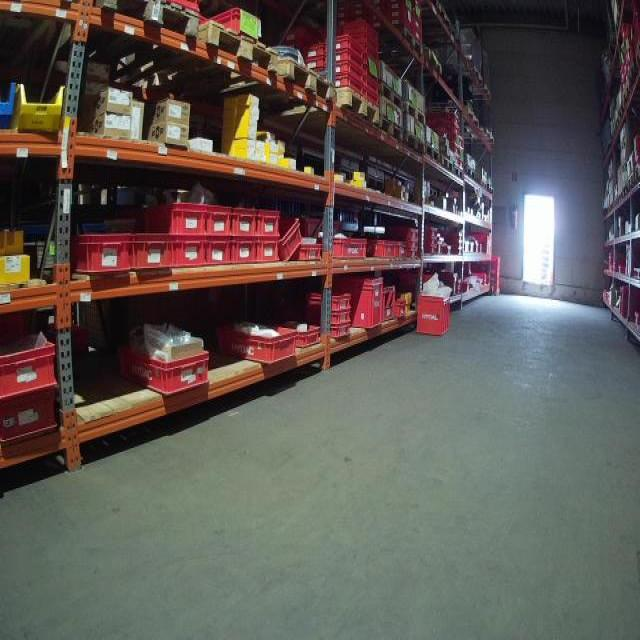pallet: (109, 19, 274, 106), (166, 54, 340, 133), (250, 84, 382, 137), (88, 3, 204, 44), (350, 25, 423, 63), (376, 118, 406, 151), (418, 45, 445, 80), (380, 82, 406, 116), (396, 135, 427, 163), (405, 104, 428, 125), (426, 144, 444, 165), (451, 163, 466, 186), (443, 158, 454, 180)
small_load_carrier: (115, 329, 214, 395), (1, 324, 60, 396), (214, 317, 298, 364), (2, 387, 63, 451), (334, 275, 386, 331), (67, 232, 131, 277), (134, 200, 211, 236), (381, 249, 417, 325), (124, 227, 173, 275), (207, 8, 265, 44), (414, 293, 450, 336), (282, 217, 306, 265), (318, 237, 368, 260), (285, 318, 322, 349), (174, 236, 210, 267), (232, 237, 259, 269), (310, 291, 349, 312), (207, 204, 231, 237), (233, 207, 259, 237), (207, 237, 231, 268), (333, 76, 365, 98), (327, 38, 364, 57), (259, 209, 282, 239), (259, 239, 282, 268), (370, 241, 394, 265), (332, 51, 364, 66), (309, 312, 352, 323), (337, 62, 364, 79), (330, 323, 352, 342), (300, 248, 322, 265), (396, 224, 420, 239), (304, 43, 327, 57), (394, 240, 408, 259), (305, 57, 327, 69), (394, 301, 406, 321), (410, 240, 420, 250)
